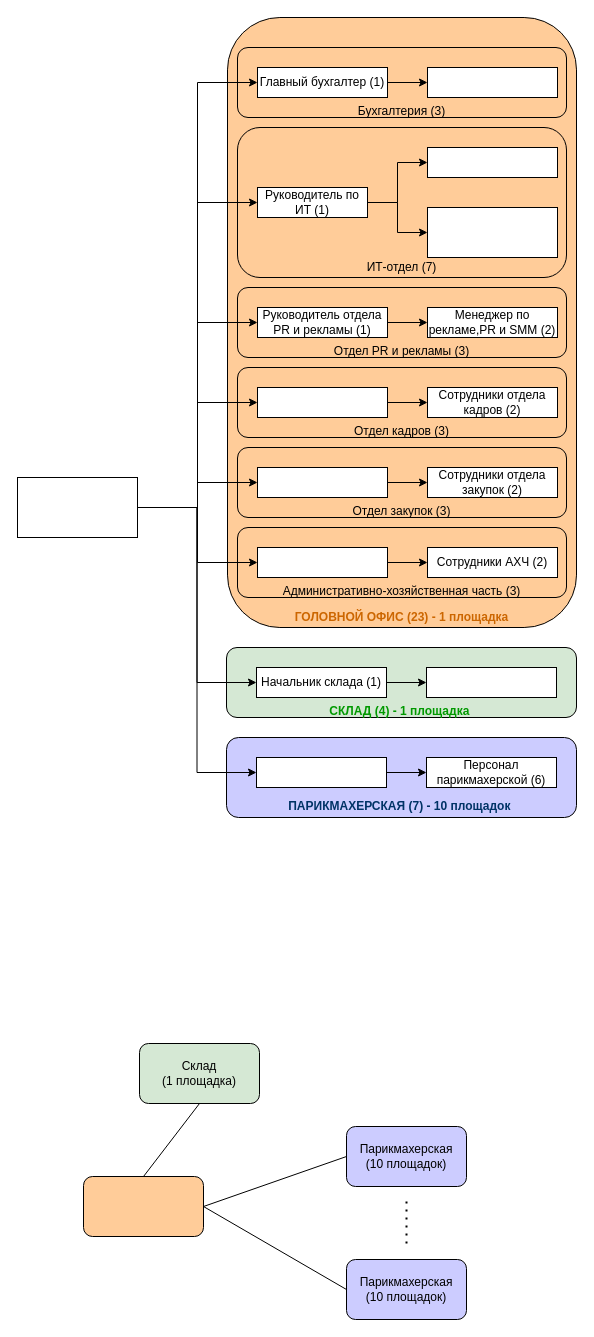
The diagram is 594 pixels wide and 1337 high, and some of its shapes have lost their labels. Here are the shapes that lost their labels. From the top down, the centre of each, then its label:
At (x=492, y=82): "Сотрудники бухгалтерии (2)".
At (x=492, y=162): "Служба ИТ (3)".
At (x=492, y=232): "Разработчики мобильного приложения (3)".
At (x=322, y=402): "Руководитель отдела кадров (1)".
At (x=322, y=482): "Руководитель отдела закупок (1)".
At (x=77, y=507): "Генеральный директор (1)".
At (x=322, y=562): "Руководитель АХЧ (1)".
At (x=491, y=682): "Персонал склада (3)".
At (x=321, y=772): "Руководитель парикмахерской (1)".
At (x=143, y=1206): "Головной офис (1 площадка)".
